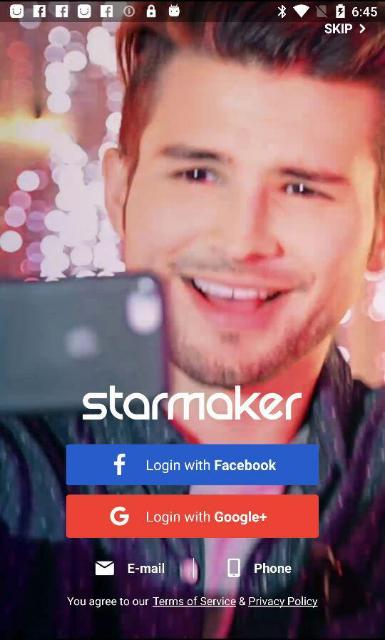BackgroundImage: (0, 22, 384, 640)
Icon: (110, 506, 128, 526), (95, 561, 114, 575), (114, 454, 126, 474), (227, 558, 239, 576)
Image: (82, 384, 302, 420)
Text: (66, 596, 318, 608), (147, 511, 267, 525), (147, 460, 277, 472), (324, 22, 366, 34), (255, 562, 292, 572), (128, 563, 164, 573)
TextImageButton: (66, 494, 318, 538), (66, 444, 320, 486)
UpperTaskBar: (0, 0, 384, 22)
